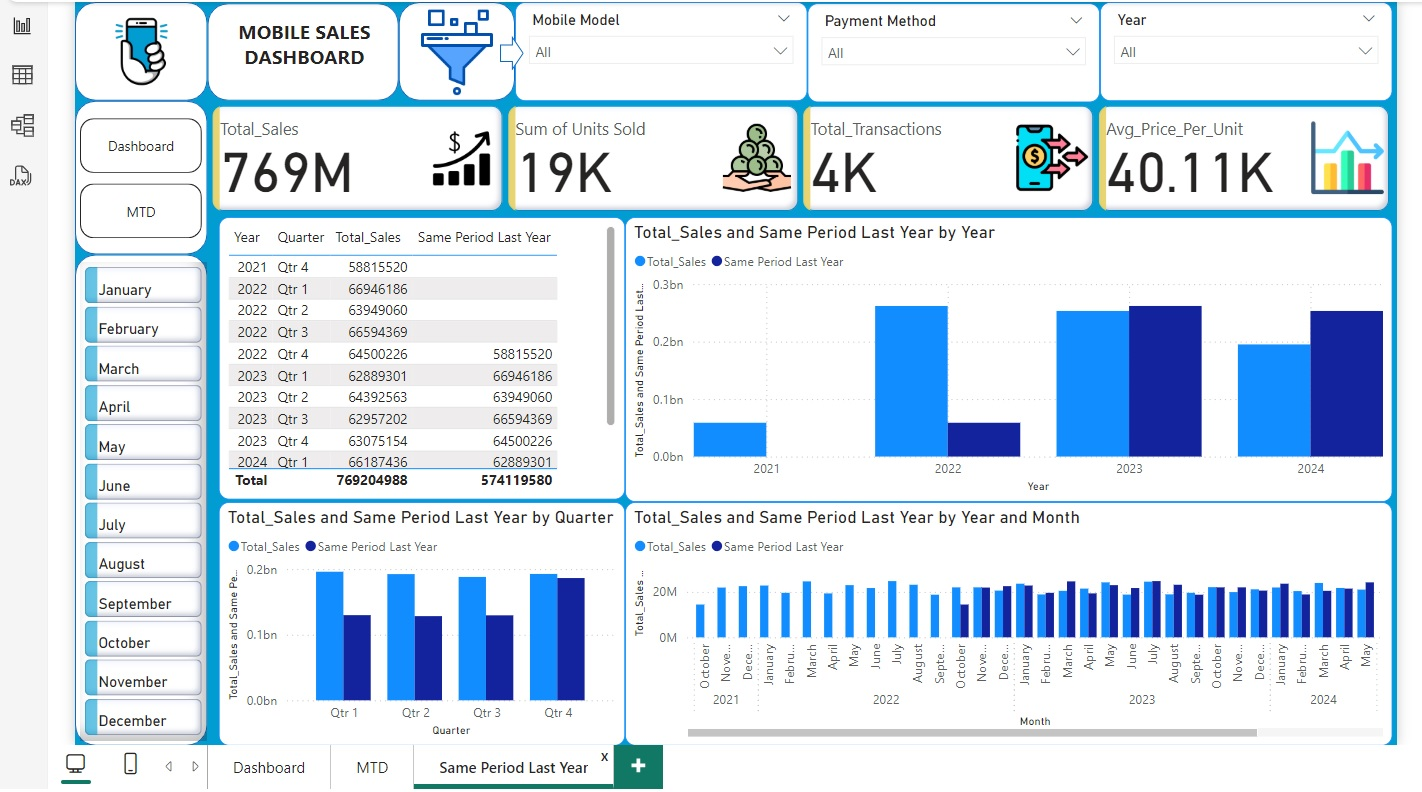

The dashboard page shown, as its layout file describes it:
{"tool":"powerbi","page":{"name":"Same Period Last Year","canvas":[1280,720],"ordinal":2},"visuals":[{"type":"shape","box":[0,0,128.3,95.6],"z":0},{"type":"image","box":[0,0,128.3,95.6],"z":1000},{"type":"shape","box":[0,95.6,128.3,148.9],"z":2000},{"type":"cardVisual","fields":{"Data":["mobile_sales_data.Total_Sales","Sum(mobile_sales_data.Units Sold)","mobile_sales_data.Total_Transactions","mobile_sales_data.Avg_Price_Per_Unit"]},"box":[128.3,95.6,1151.2,112.6],"z":3000},{"type":"slicer","fields":{"Values":["mobile_sales_data.Mobile Model"]},"box":[426.1,0,283.3,95.6],"z":4000},{"type":"slicer","fields":{"Values":["mobile_sales_data.Payment Method"]},"box":[709.4,1.2,283.3,95.6],"z":5000},{"type":"slicer","fields":{"Values":["Custom_Calendar.Date.Variation.Date Hierarchy.Year"]},"box":[992.6,0,283.3,95.6],"z":6000},{"type":"shape","box":[313.5,0,112.6,95.6],"z":7000},{"type":"image","box":[313.5,1.2,112.6,95.6],"z":8000},{"type":"shape","box":[128.3,1.2,185.2,94.4],"z":9000},{"type":"shape","box":[411.6,32.7,23,33.9],"z":10000},{"type":"textbox","box":[139.2,10.9,165.8,75.1],"z":11000},{"type":"shape","box":[0,244.3,128.3,475.7],"z":12000},{"type":"advancedSlicerVisual","fields":{"Values":["Custom_Calendar.Date.Variation.Date Hierarchy.Month"]},"box":[4.8,251.8,123.5,463.6],"z":13000},{"type":"tableEx","fields":{"Values":["Custom_Calendar.Date.Variation.Date Hierarchy.Year","Custom_Calendar.Date.Variation.Date Hierarchy.Quarter","mobile_sales_data.Total_Sales","mobile_sales_data.Same Period Last Year"]},"box":[139.2,208.2,393.4,273.6],"z":14000},{"type":"clusteredColumnChart","fields":{"Category":["Custom_Calendar.Date.Variation.Date Hierarchy.Year","Custom_Calendar.Date.Variation.Date Hierarchy.Quarter"],"Y":["mobile_sales_data.Total_Sales","mobile_sales_data.Same Period Last Year"]},"box":[532.6,208.2,743.2,276],"z":14001},{"type":"clusteredColumnChart","fields":{"Category":["Custom_Calendar.Date.Variation.Date Hierarchy.Year","Custom_Calendar.Date.Variation.Date Hierarchy.Quarter"],"Y":["mobile_sales_data.Total_Sales","mobile_sales_data.Same Period Last Year"]},"box":[139.2,484.2,393.4,236],"z":14002},{"type":"clusteredColumnChart","fields":{"Y":["mobile_sales_data.Total_Sales","mobile_sales_data.Same Period Last Year"],"Category":["Custom_Calendar.Date.Variation.Date Hierarchy.Year","Custom_Calendar.Date.Variation.Date Hierarchy.Month","Custom_Calendar.Date.Variation.Date Hierarchy.Day"]},"box":[532.6,484.2,743.2,236],"z":14003},{"type":"pageNavigator","box":[4.8,112.6,118.6,117.4],"z":14004}]}

Visuals, with their boxes on the page's 1280x720 design canvas (x1, y1, x2, y2). These are canvas units, not pixel positions in the 1422x792 screenshot, which may show the page scaled, cropped or inside an application window:
shape: 0:0:128:96
image: 0:0:128:96
shape: 0:96:128:244
cardVisual - mobile_sales_data.Total_Sales x Sum(mobile_sales_data.Units Sold): 128:96:1280:208
slicer - mobile_sales_data.Mobile Model: 426:0:709:96
slicer - mobile_sales_data.Payment Method: 709:1:993:97
slicer - Custom_Calendar.Date.Variation.Date Hierarchy.Year: 993:0:1276:96
shape: 314:0:426:96
image: 314:1:426:97
shape: 128:1:314:96
shape: 412:33:435:67
textbox: 139:11:305:86
shape: 0:244:128:720
advancedSlicerVisual - Custom_Calendar.Date.Variation.Date Hierarchy.Month: 5:252:128:715
tableEx - Custom_Calendar.Date.Variation.Date Hierarchy.Year x Custom_Calendar.Date.Variation.Date Hierarchy.Quarter: 139:208:533:482
clusteredColumnChart - Custom_Calendar.Date.Variation.Date Hierarchy.Year x Custom_Calendar.Date.Variation.Date Hierarchy.Quarter: 533:208:1276:484
clusteredColumnChart - Custom_Calendar.Date.Variation.Date Hierarchy.Year x Custom_Calendar.Date.Variation.Date Hierarchy.Quarter: 139:484:533:720
clusteredColumnChart - mobile_sales_data.Total_Sales x mobile_sales_data.Same Period Last Year: 533:484:1276:720
pageNavigator: 5:113:123:230
